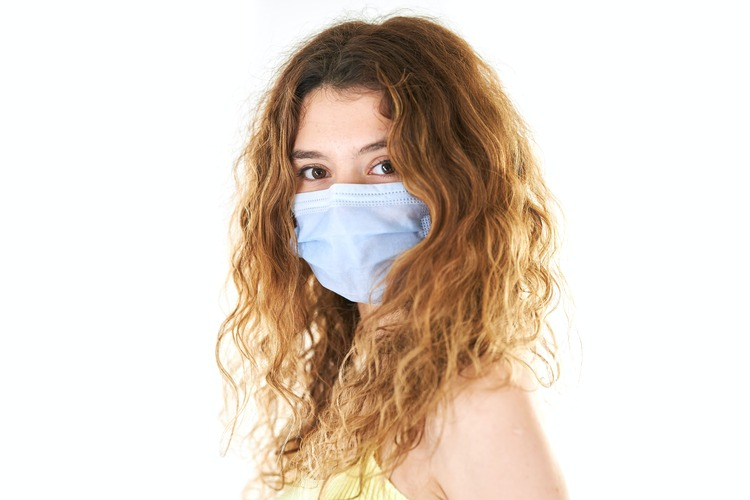with_mask: (285, 104, 440, 304)
